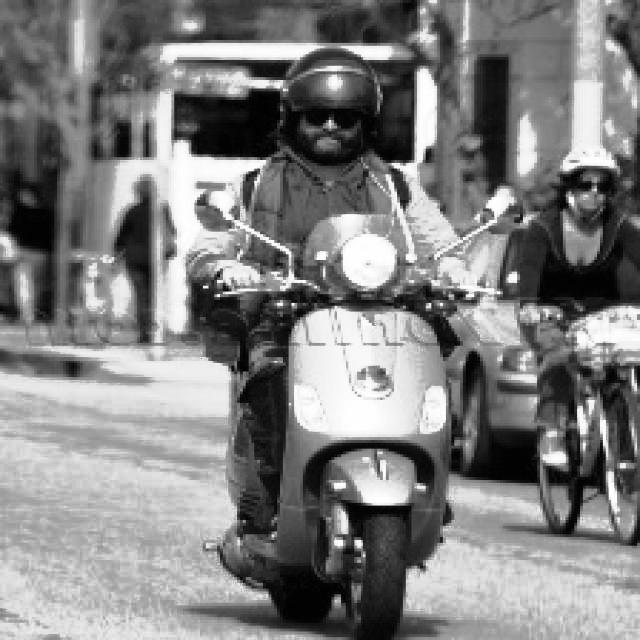Bike: (273, 224, 475, 638)
